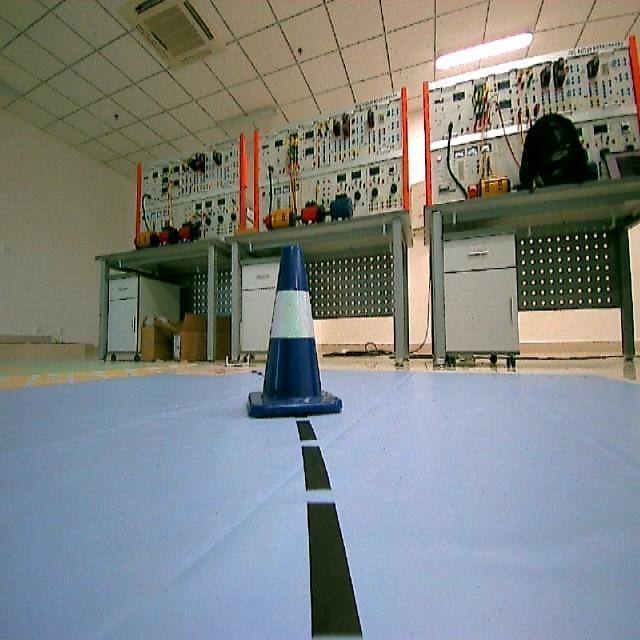obstacle: (244, 243, 346, 431)
